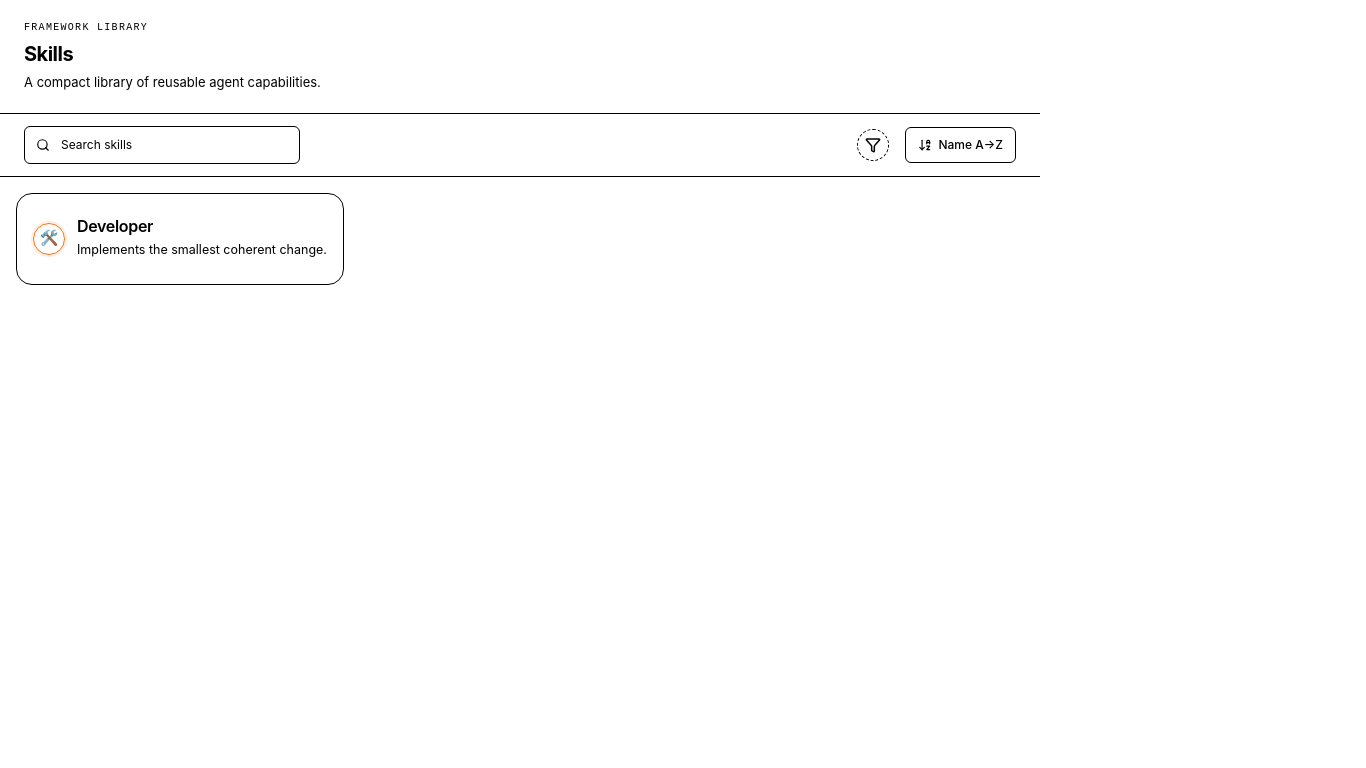
Test case: FrameworkScreen › shows rendered markdown by default and editable plain text on toggle
Click the button with test id "framework-card-sk-developer": point(49, 238) [16,192,344,284]
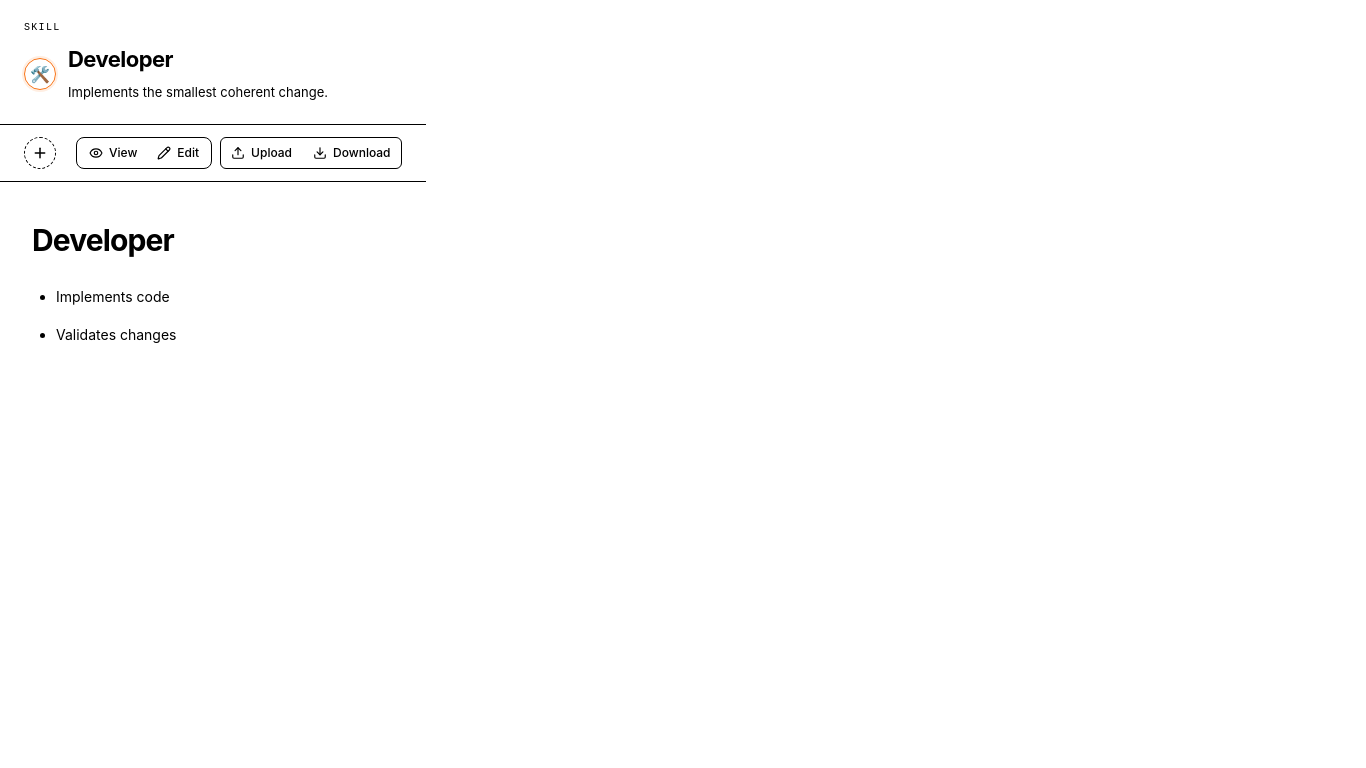
Now the element with test id "framework-markdown-preview-skill" is shown, box [32,222,176,343]
Now the heading "Developer" is shown, box [32,222,174,258]
Now the element with test id "framework-markdown-preview-skill" shows "Implements code", box [56,288,170,305]
Click the tab "Edit": point(178, 153) [147,140,209,166]
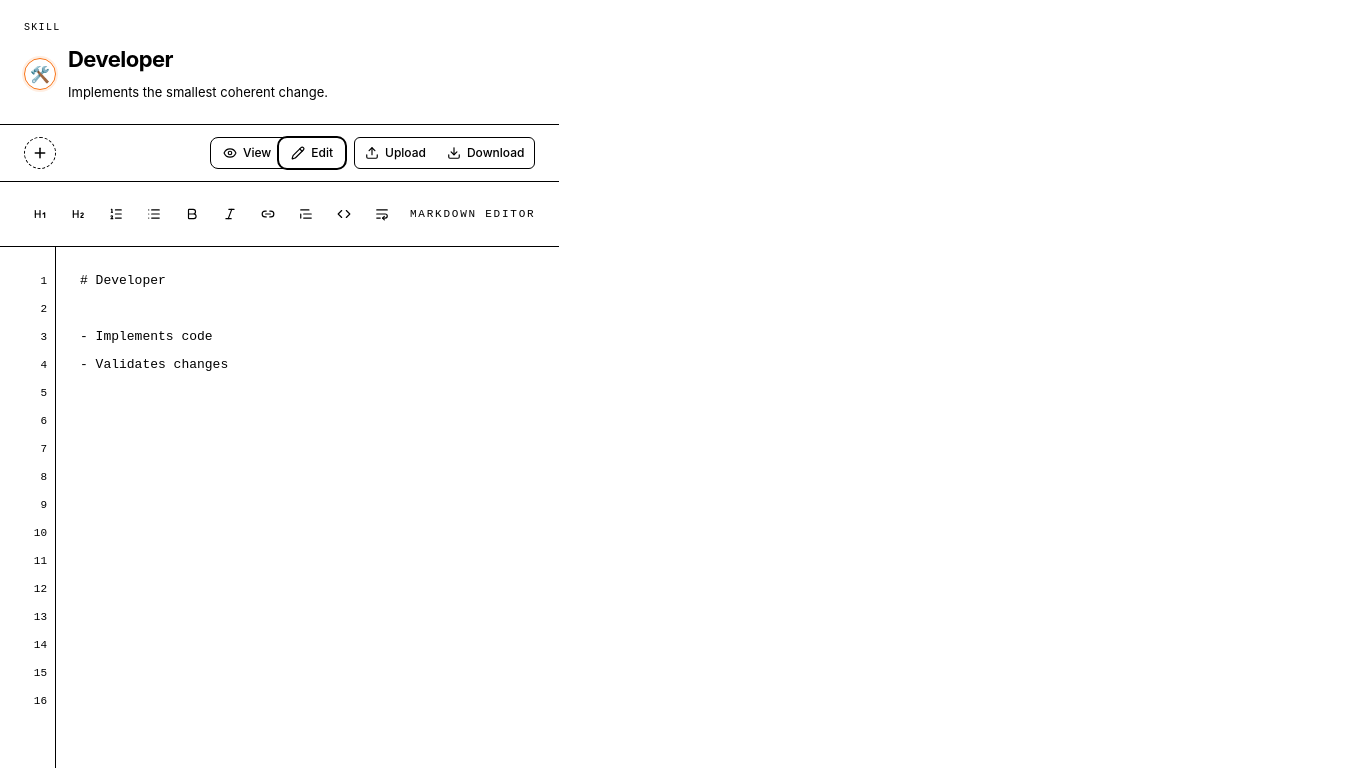
Now the text box with test id "framework-editor-skill" is shown, box [56,247,559,767]
Click the tab "View": point(247, 153) [213,140,281,166]
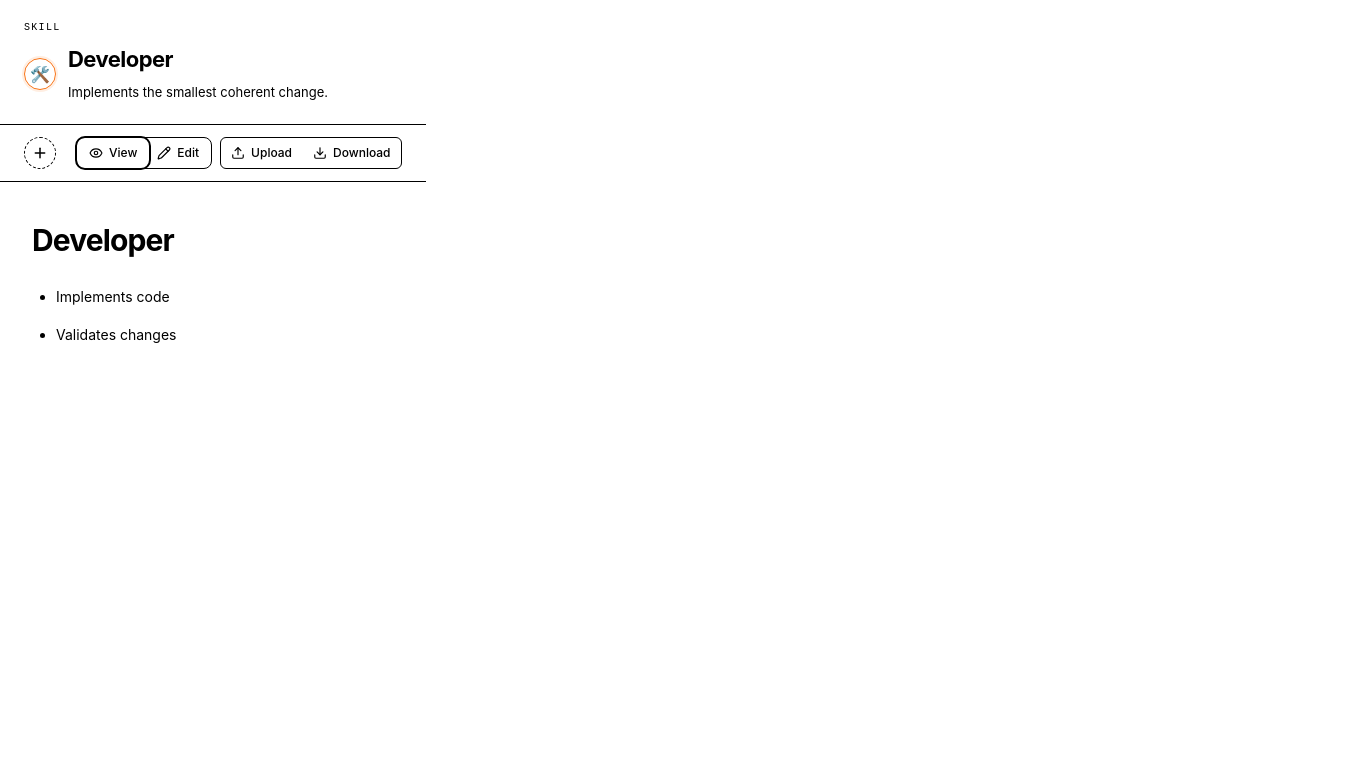
Now the element with test id "framework-markdown-preview-skill" is shown, box [32,222,176,343]
